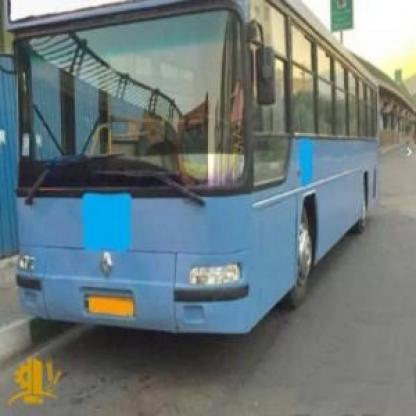Bus: (0, 0, 390, 355)
